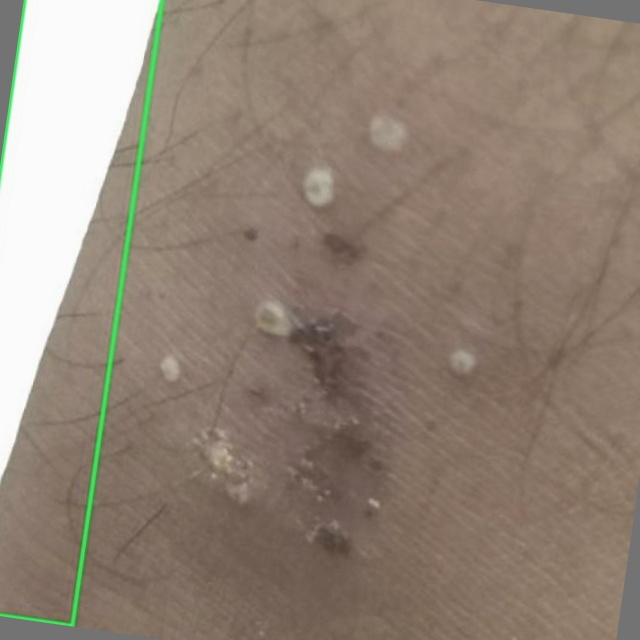Eczema: (0, 0, 161, 625)
